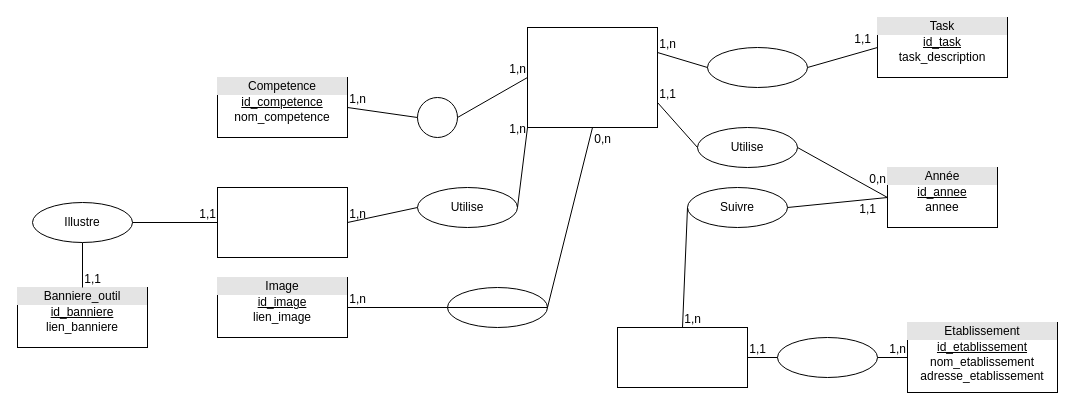
Some shapes in this 1075 by 410 pixel diagram are drawn without their labels. The centre of each missing label's shape, as x and y in pixels:
"Accompli" goes at [757,67].
"Formation id_formation nom_formation" goes at [682,357].
"Illustrer position" goes at [497,307].
"Outil id_outil nom_outil lien_icone" goes at [282,222].
"Projet id_projet intitule objectif nb_pers duree" goes at [592,77].
